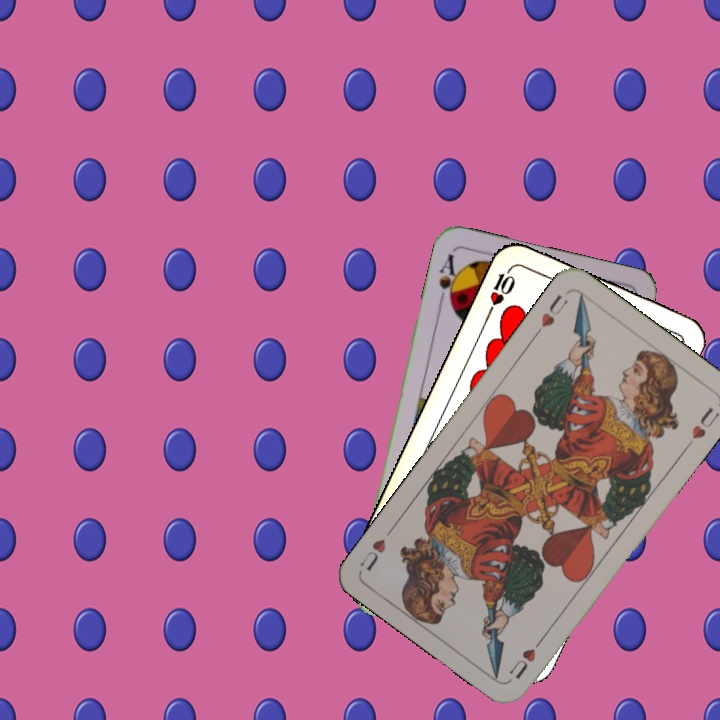H10: (484, 262, 518, 318)
HU: (504, 632, 547, 682), (530, 291, 571, 339)
SA: (434, 249, 463, 310)
